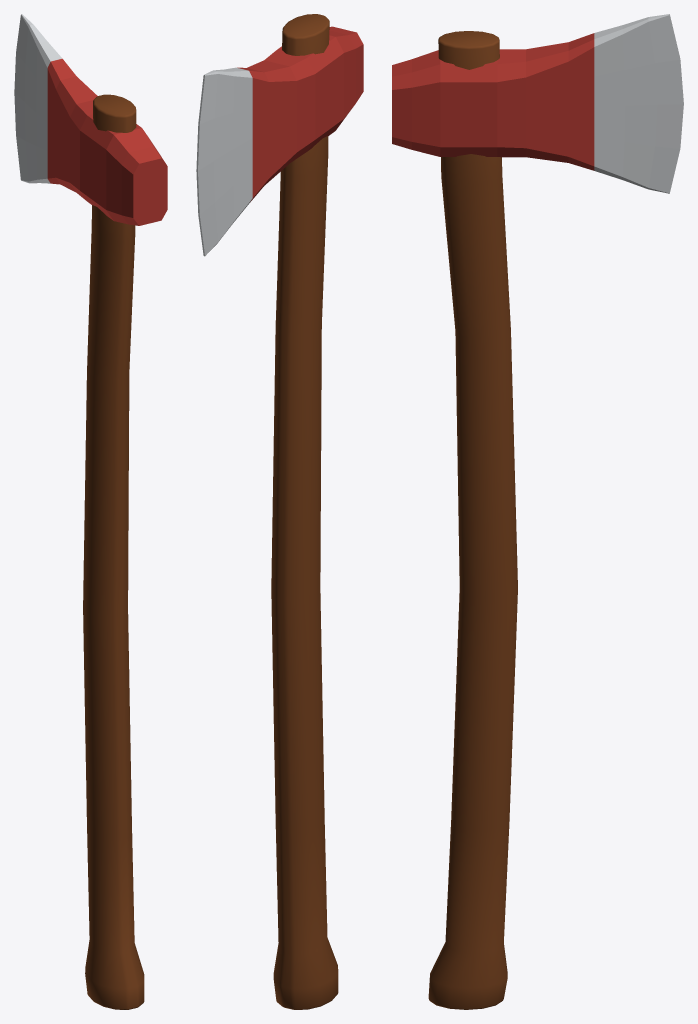
File: axe.glb
3 views of the same model, side by side, from view 1: azimuth 30°, elevation 25°; view 2: azimuth 150°, elevation 25°; view 3: azimuth 270°, elevation 25° (orthographic). The views are drawn at different scales.
Parts seen in each view (by area): view 1: axe; view 2: axe; view 3: axe.
Part boxes in pixels (bbox=[...]): axe: bbox=[14, 14, 167, 1009]; axe: bbox=[196, 14, 363, 1009]; axe: bbox=[392, 14, 683, 1009].
Size of the model in its own units: 0.042 by 0.763 by 0.205.
